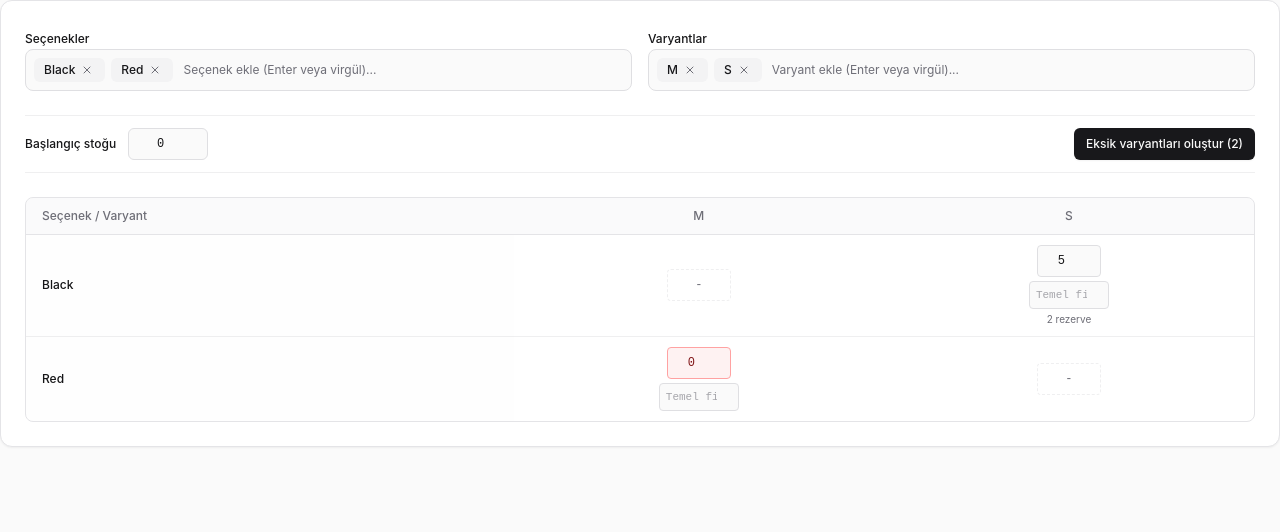
Test: VariantsTab › blocks deletion of chip when variants have reserved stock > 0
Note: Black has variant v1 with reserved: 2
Click the button named "Kaldır Black": (87, 70) x1=79 y1=62 x2=95 y2=78
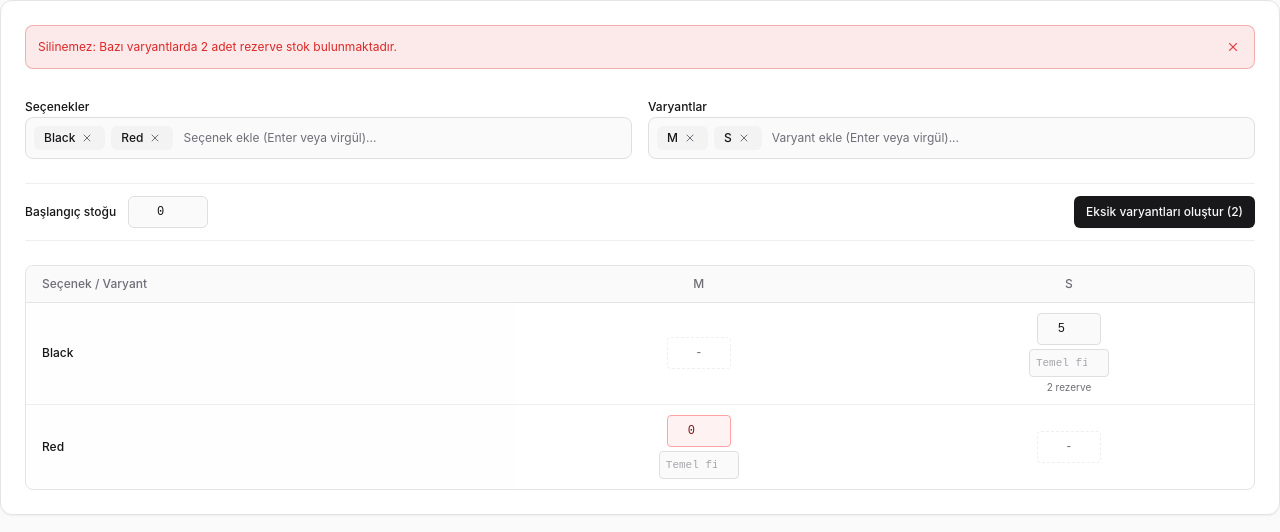
Check: the message "Silinemez: Bazı varyantlarda 2 adet rezerve stok bulunmaktadır." is shown, box x1=25 y1=25 x2=1255 y2=69
Check: the text "Silinemez: Bazı varyantlarda 2 adet rezerve stok bulunmaktadır." is shown, box x1=38 y1=39 x2=397 y2=55
